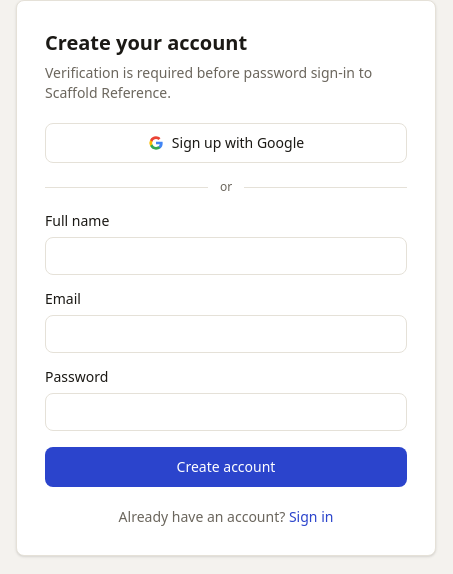
Test: SignUpScreen (AC1) › creates the account and confirms a verification email was sent
The width and height of the screenshot is (453, 574).
Type "Ada Lovelace" into the field labelled "Full name" at (226, 256), box [45, 237, 407, 275]
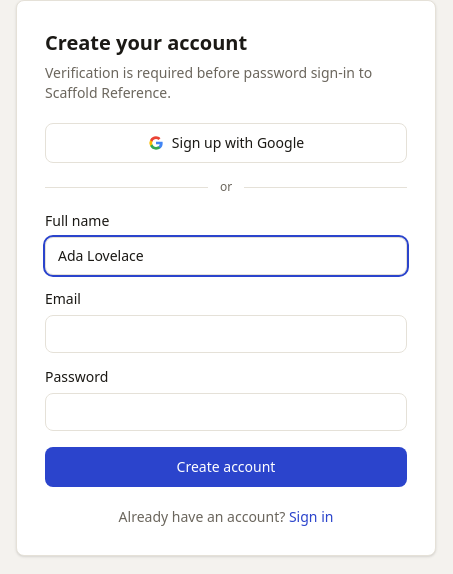
Type "ada@example.com" into the field labelled "Email" at (226, 334), box [45, 315, 407, 353]
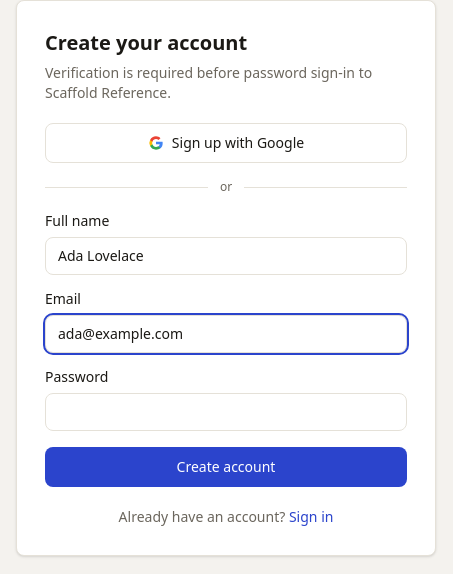
Type "a-strong-passphrase" into the password field labelled "Password" at (226, 412), box [45, 393, 407, 431]
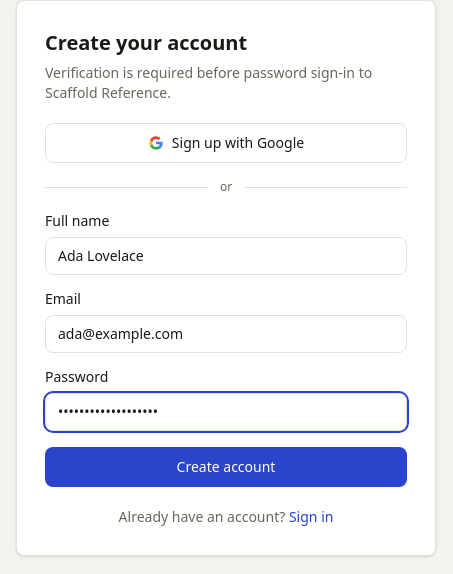
Click the button "Create account" at (226, 467), box [45, 447, 407, 487]
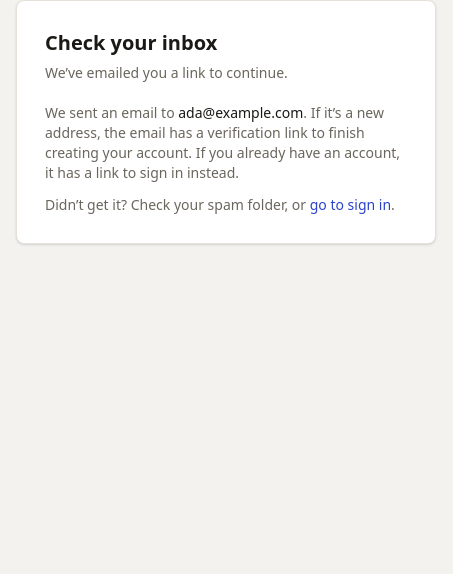
Check: the heading "Check your inbox" is shown, box [45, 29, 217, 56]
